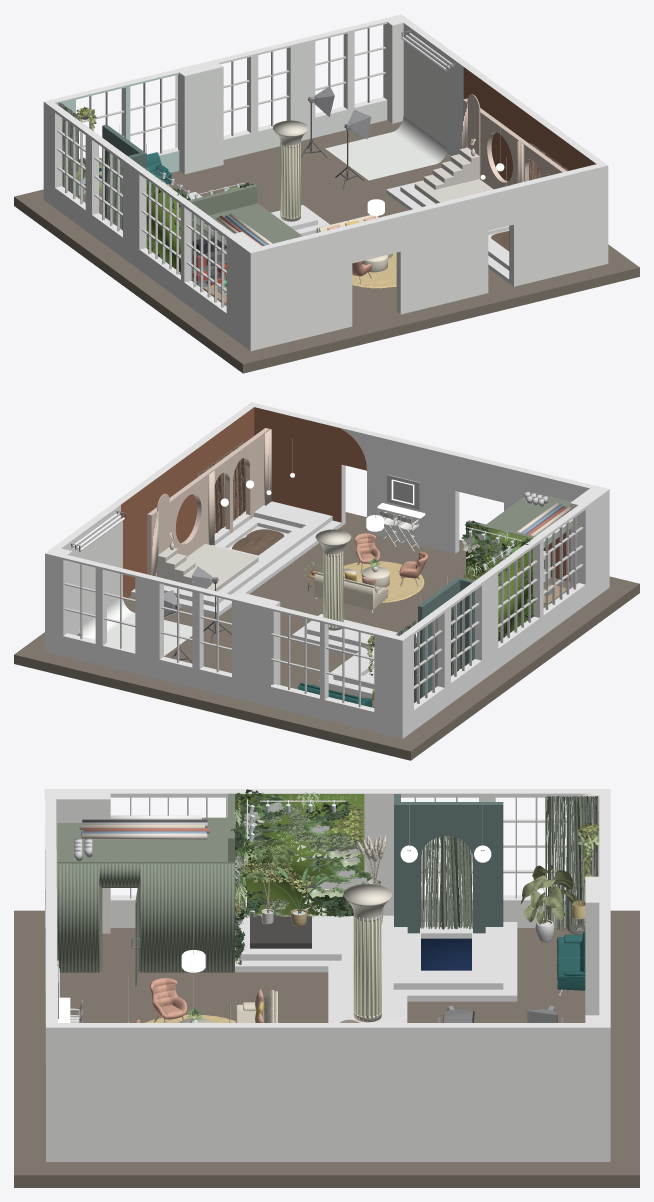
The model's file is etherea-bake-test.glb.
3 renders of one model, top to bottom at view 1: azimuth 30°, elevation 25°; view 2: azimuth 150°, elevation 25°; view 3: azimuth 270°, elevation 25°, orthographic. The views are drawn at different scales.
Parts seen in each view (by area): view 1: Cube, Wall_j0slUw0ESQaHlxl3I12E8Q, Cube.062, Studio+BG_izNCRPySQSW3zbnGWBsGWA, Cube.001, Wall_ryM7yGxfT5SOGcNczaVzYQ, Wall_cM6Y5bnYQj6PNu9bwilUNQ, Wall__qiu8B87SZqla0gIePVqBA, Cube.042, New Desert Wall, Stage stairs and landing, Cube.038 (+23 smaller); view 2: Cube, Wall_j0slUw0ESQaHlxl3I12E8Q, Wall_ryM7yGxfT5SOGcNczaVzYQ, Cube.001, Cube.002, Wall_tC4apbOfSQGxfDBpBDDVlA, New Desert Wall, Studio+BG_izNCRPySQSW3zbnGWBsGWA, Cube.042, New Step 2, Wall_xexoBvuBSq6ge_mbJKC2-Q, Stage stairs and landing (+32 smaller); view 3: Cube.001, Cube, Office cladding, Furniture_BY4Y0_DlRIqQSFE0mL3oGA, Wall_iNl4Zh0ATr2gGKpswnzd6w, Cube.061, Cube.063, Office lid, Furniture_3Rr4xGx_T6Wha_DX7qum0g, Furniture_aCKCvS4IRHCrueJycEffeg.002, Cube.041, Cube.038 (+21 smaller).
Part boxes in pixels (x1,y1,x2,y2): Cube: [14, 120, 639, 373]; Wall_j0slUw0ESQaHlxl3I12E8Q: [317, 192, 488, 333]; Cube.062: [509, 162, 608, 286]; Studio+BG_izNCRPySQSW3zbnGWBsGWA: [325, 40, 447, 180]; Cube.001: [395, 15, 603, 181]; Wall_ryM7yGxfT5SOGcNczaVzYQ: [211, 18, 388, 159]; Wall_cM6Y5bnYQj6PNu9bwilUNQ: [262, 233, 321, 348]; Wall__qiu8B87SZqla0gIePVqBA: [178, 62, 223, 174]; Cube.042: [55, 186, 228, 334]; New Desert Wall: [463, 98, 566, 189]; Stage stairs and landing: [414, 147, 493, 203]; Cube.038: [123, 158, 146, 266]; Cube: [14, 512, 639, 760]; Wall_j0slUw0ESQaHlxl3I12E8Q: [367, 431, 538, 553]; Wall_ryM7yGxfT5SOGcNczaVzYQ: [59, 555, 237, 697]; Cube.001: [46, 405, 254, 635]; Cube.002: [249, 405, 366, 522]; Wall_tC4apbOfSQGxfDBpBDDVlA: [267, 605, 402, 738]; New Desert Wall: [147, 428, 269, 576]; Studio+BG_izNCRPySQSW3zbnGWBsGWA: [79, 521, 192, 655]; Cube.042: [414, 583, 587, 730]; New Step 2: [164, 501, 332, 606]; Wall_xexoBvuBSq6ge_mbJKC2-Q: [235, 598, 269, 705]; Stage stairs and landing: [157, 543, 258, 596]; Cube.001: [46, 1023, 609, 1161]; Cube: [14, 910, 639, 1187]; Office cladding: [57, 863, 234, 972]; Furniture_BY4Y0_DlRIqQSFE0mL3oGA: [235, 789, 372, 917]; Wall_iNl4Zh0ATr2gGKpswnzd6w: [394, 802, 503, 933]; Cube.061: [235, 915, 503, 1022]; Cube.063: [235, 922, 517, 1022]; Office lid: [57, 817, 234, 863]; Furniture_3Rr4xGx_T6Wha_DX7qum0g: [545, 795, 598, 930]; Furniture_aCKCvS4IRHCrueJycEffeg.002: [420, 836, 472, 929]; Cube.041: [110, 789, 579, 797]; Cube.038: [349, 789, 393, 915].
Size of the model in its own units: 13.55 by 3.64 by 13.55.
